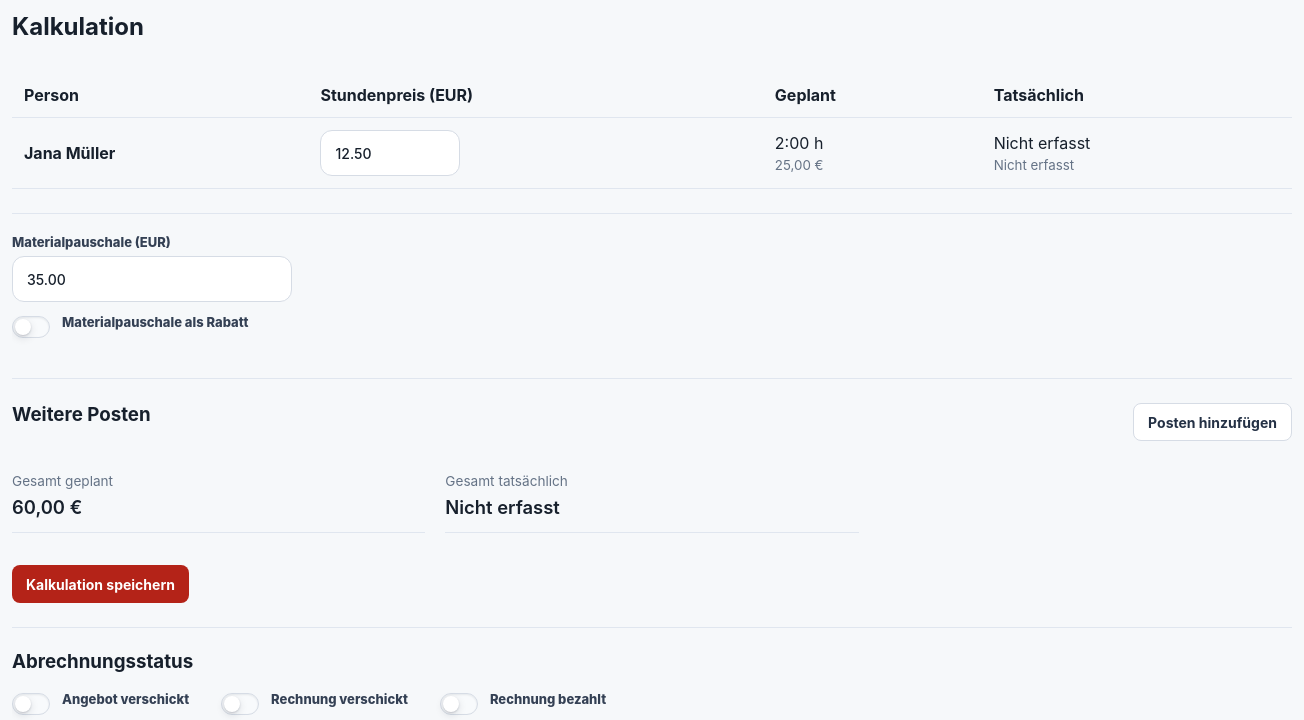
Scenario: rejects invalid material prices even with an active discount
This screenshot has width=1304, height=720.
Click the checkbox labelled "Materialpauschale als Rabatt".
click(130, 326)  # box [12,314,248,338]
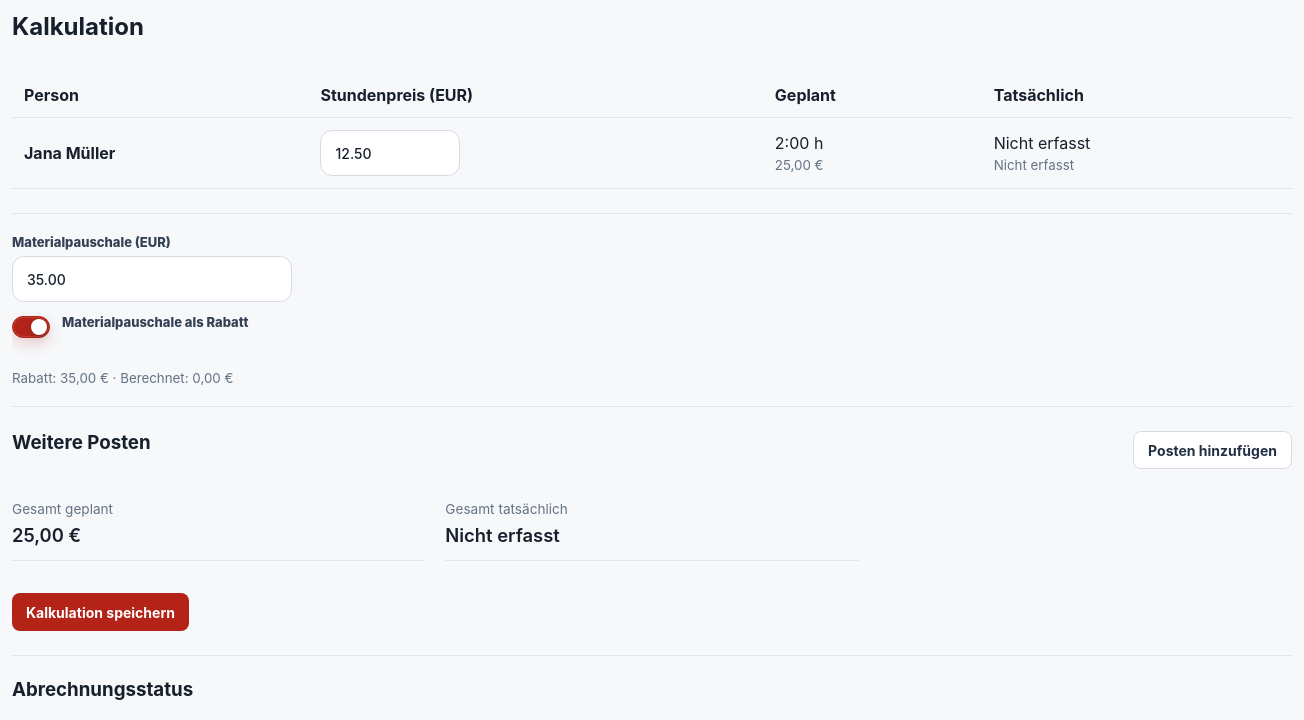
Replace the text in the field labelled "Materialpauschale (EUR)" with "-1" at (152,279), box [12,256,292,302]
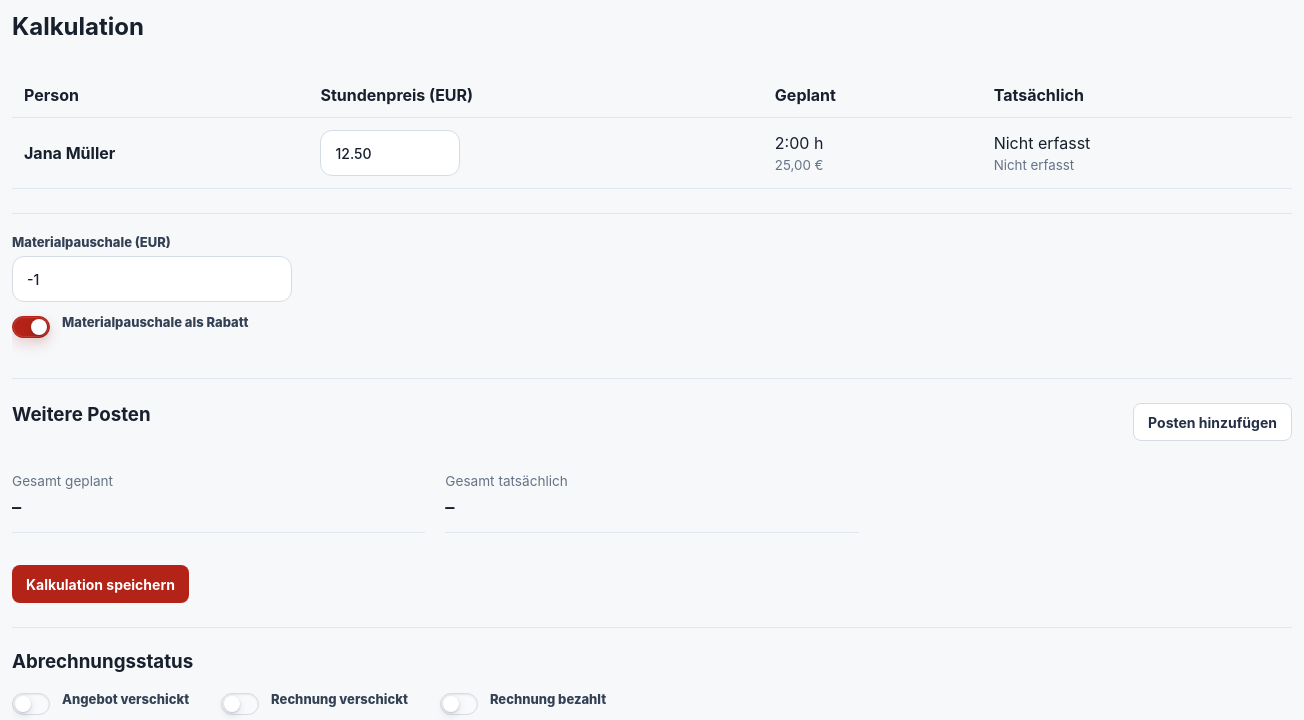
Check: the text "–" below "Gesamt geplant" is shown, box [12,496,21,518]
Click the button "Kalkulation speichern".
click(100, 584)  # box [12,565,189,603]
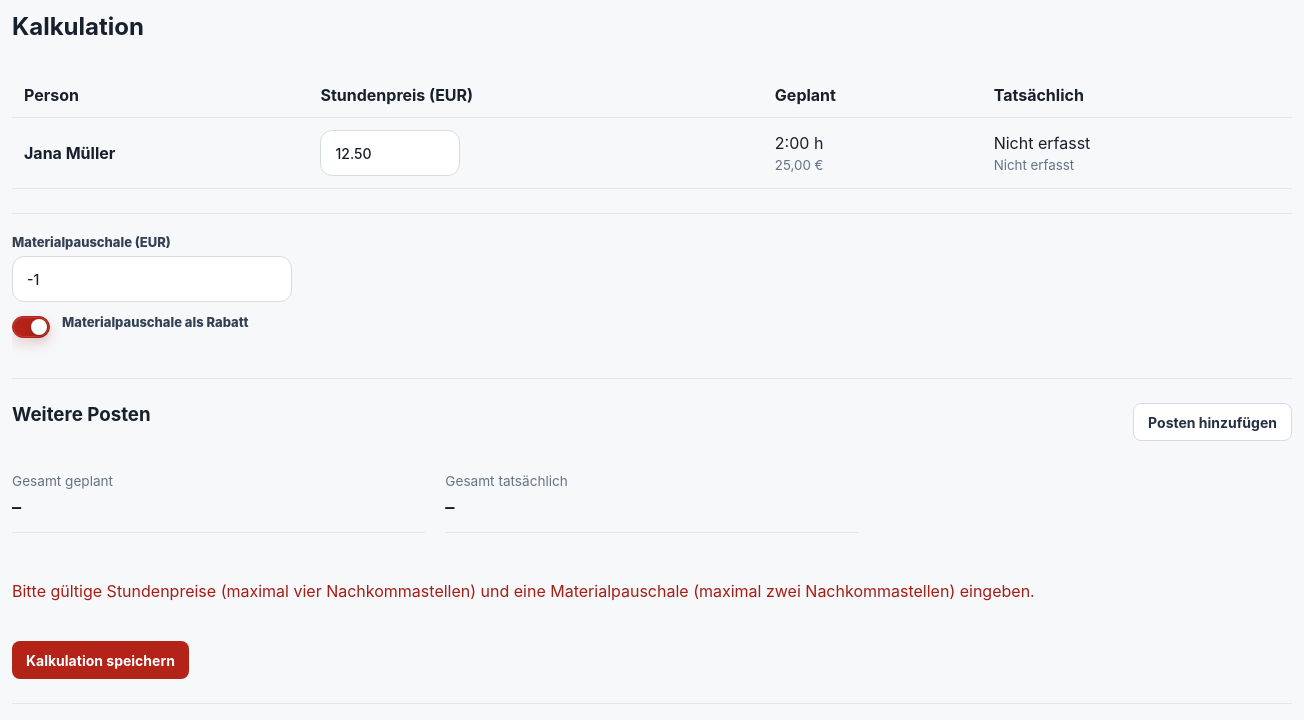
Check: the message shows "Materialpauschale", box [12,581,1035,601]
